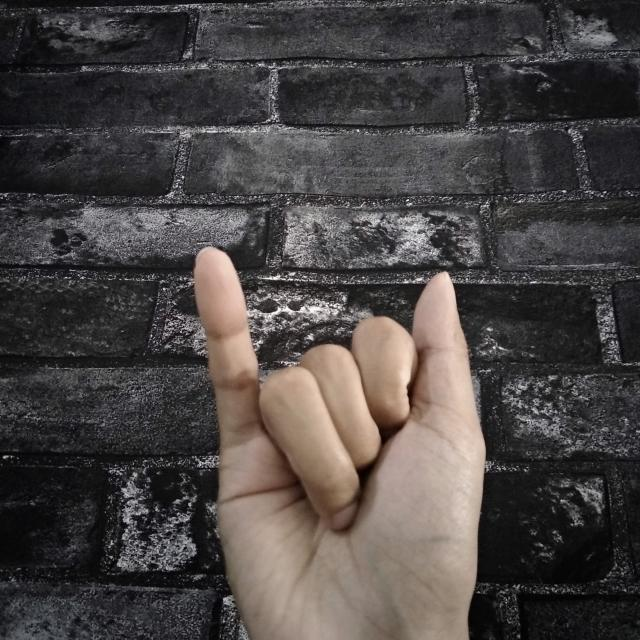Y: (189, 243, 496, 640)
